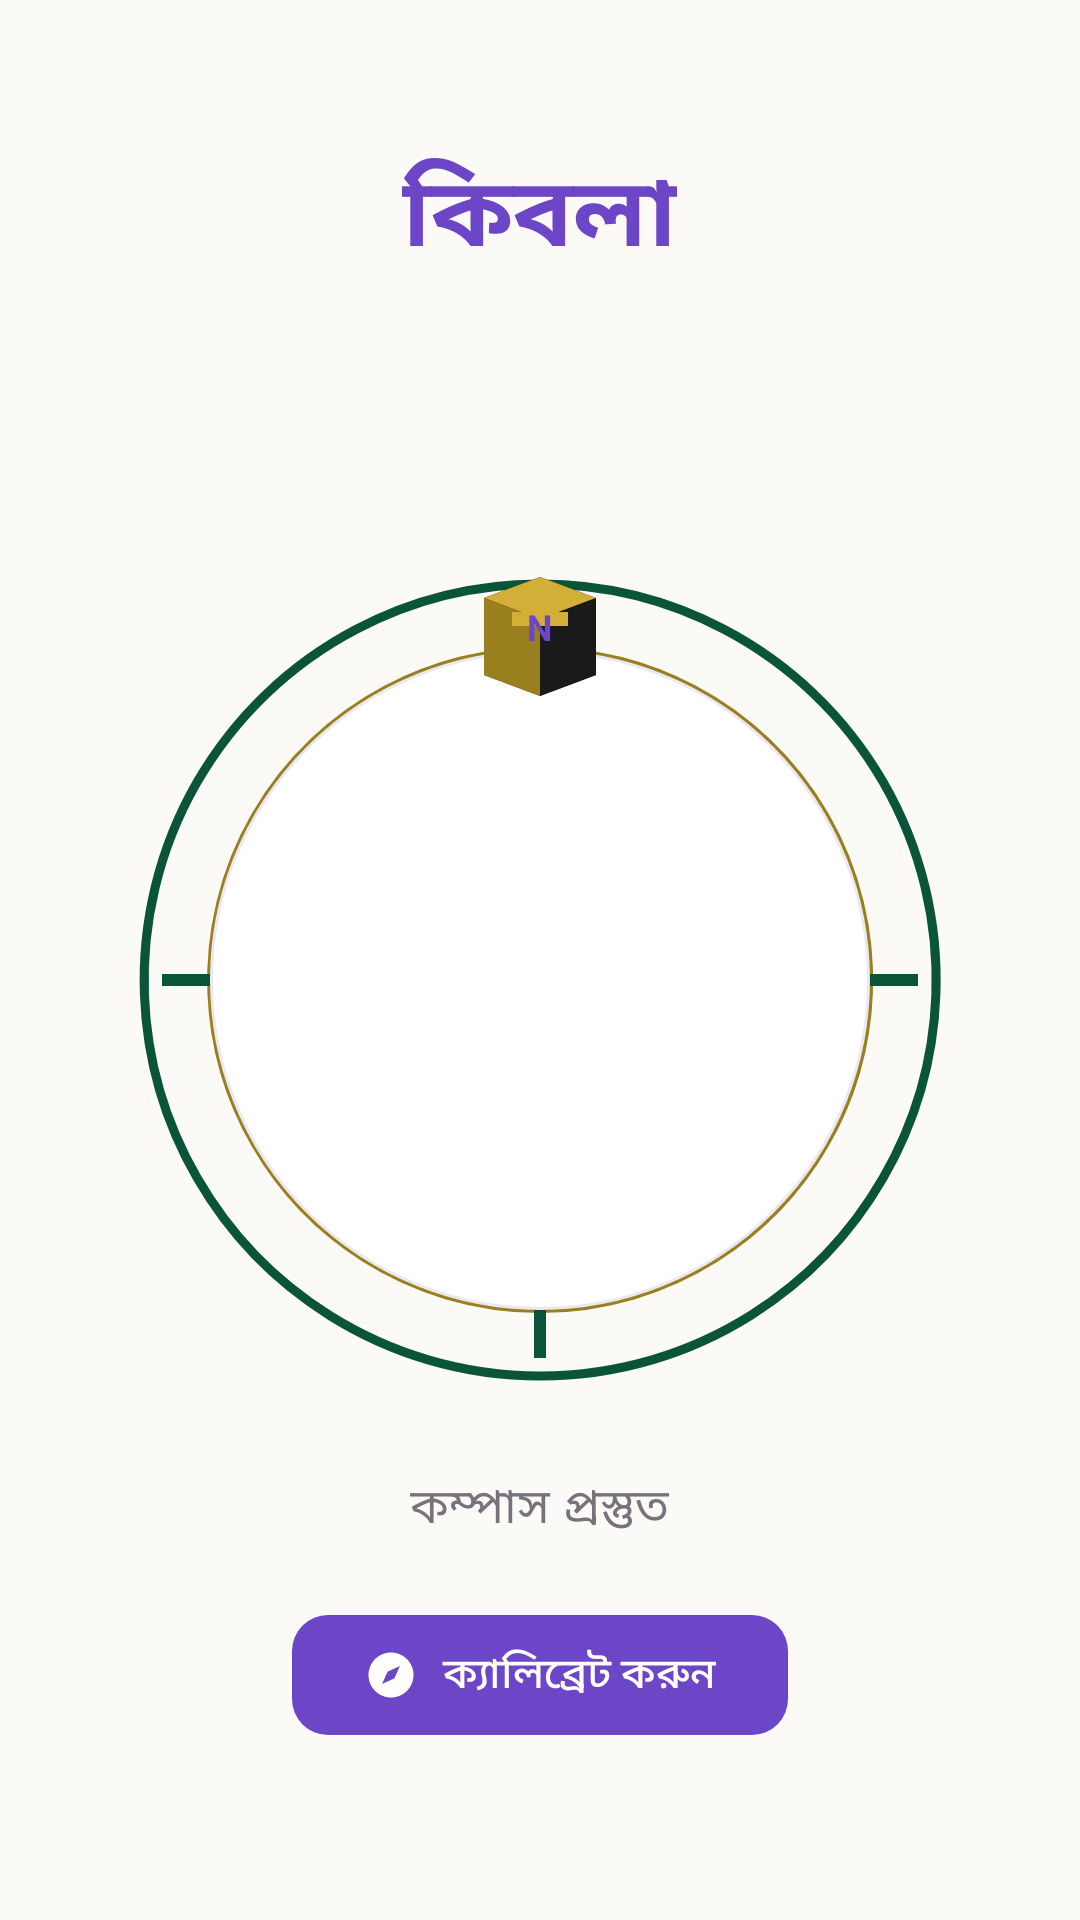

Screen size 1080px×1920px. Icon name, then its box in pixels as bbox(x1, y1, x2, y2):
kaaba: bbox(456, 577, 624, 696)
